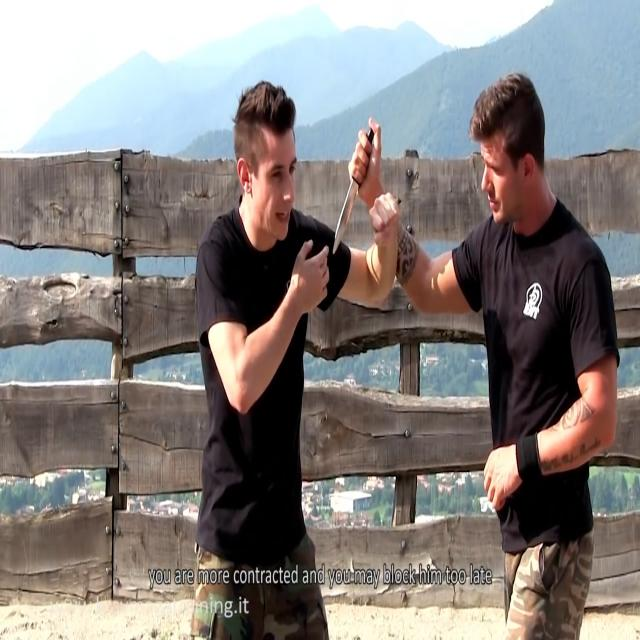knife: (333, 130, 375, 260)
